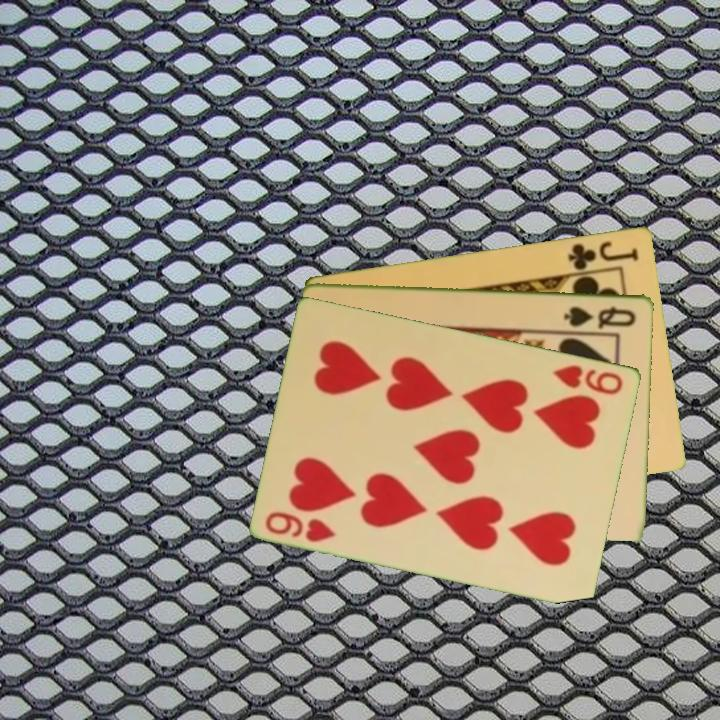9h: (262, 508, 340, 545), (551, 361, 626, 397)
Jc: (565, 236, 642, 273)
Qs: (561, 302, 639, 330)
